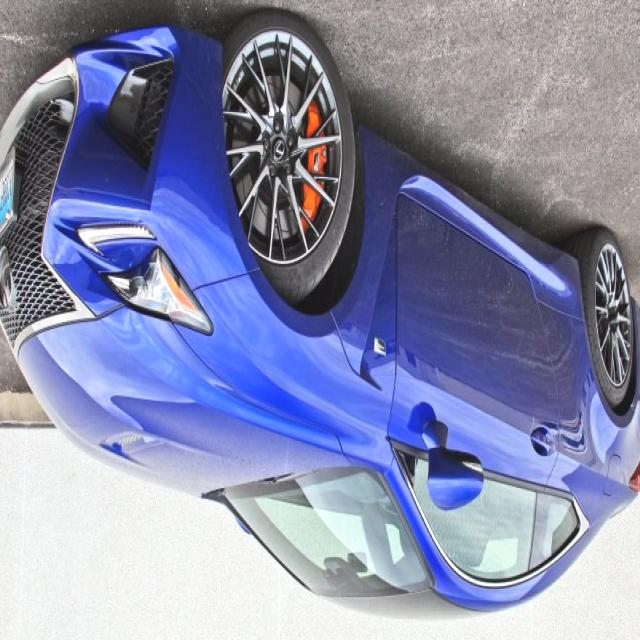blue: (0, 11, 640, 626)
